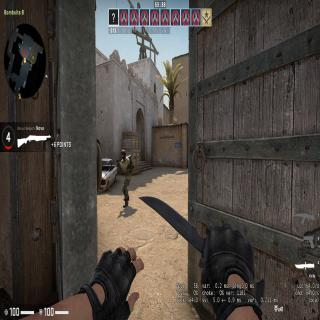CT-Body: (118, 147, 134, 201)
CT-Head: (120, 148, 128, 158)
